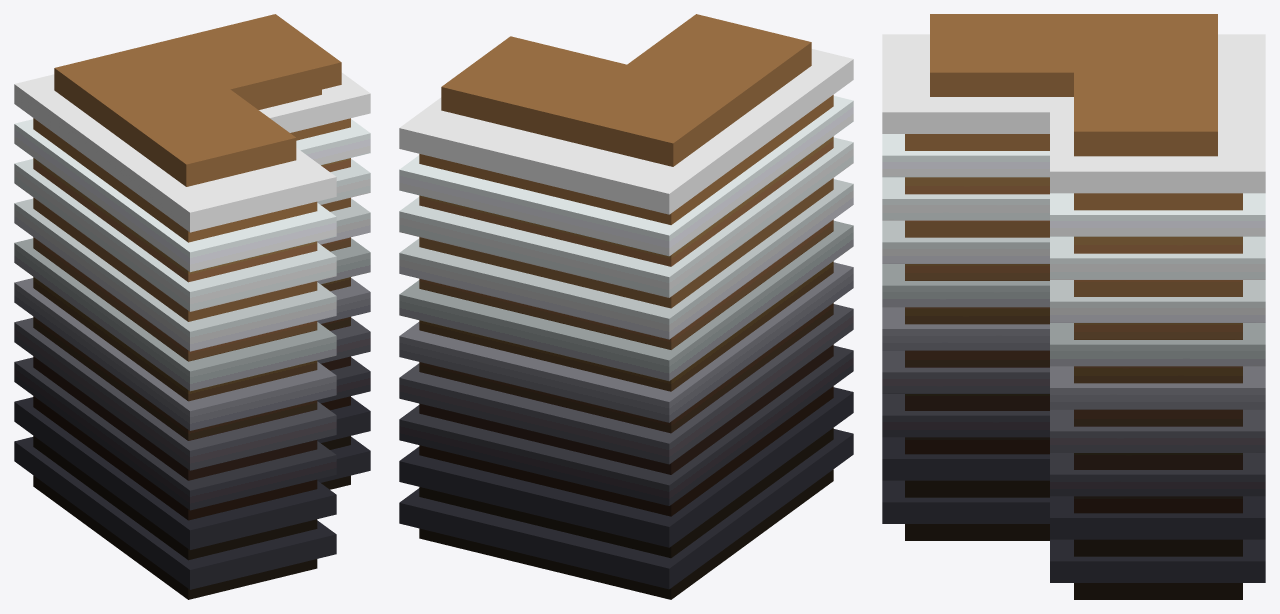
Rendered from SM_Building_L_1.fbx.
3 views of the same model, side by side, from view 1: azimuth 30°, elevation 25°; view 2: azimuth 150°, elevation 25°; view 3: azimuth 270°, elevation 25° (orthographic). The views are drawn at different scales.
Visible parts, largest first — view 1: Building_L_1; view 2: Building_L_1; view 3: Building_L_1.
Boxes of the visible parts, box(x1,y1,x2,y2) form: Building_L_1: box(14, 14, 370, 599); Building_L_1: box(399, 14, 853, 599); Building_L_1: box(882, 14, 1265, 599).
Size of the model in its own units: 16.56 by 26.09 by 19.58.
